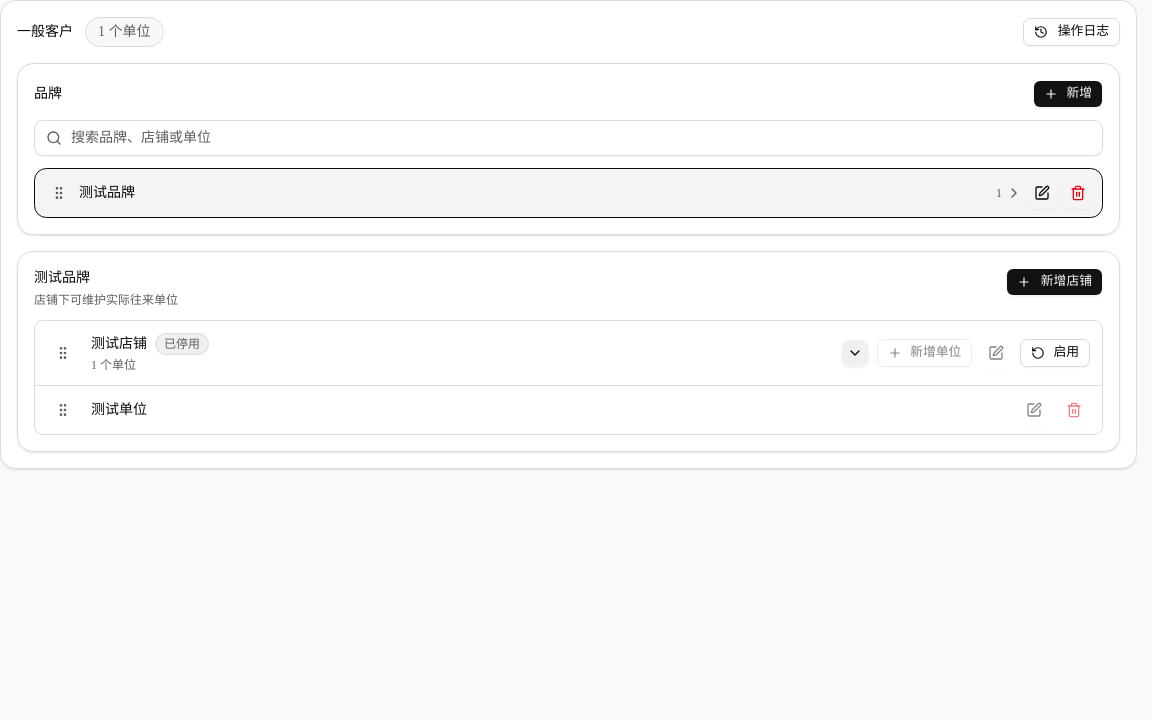
Test: allows a disabled shop to be enabled again
What coordinates should you click on to do the following:
click the button with aria-label "启用店铺 测试店铺"
I would click on:
 (1055, 353)
Its box is top-left (1020, 339), bottom-right (1090, 367).
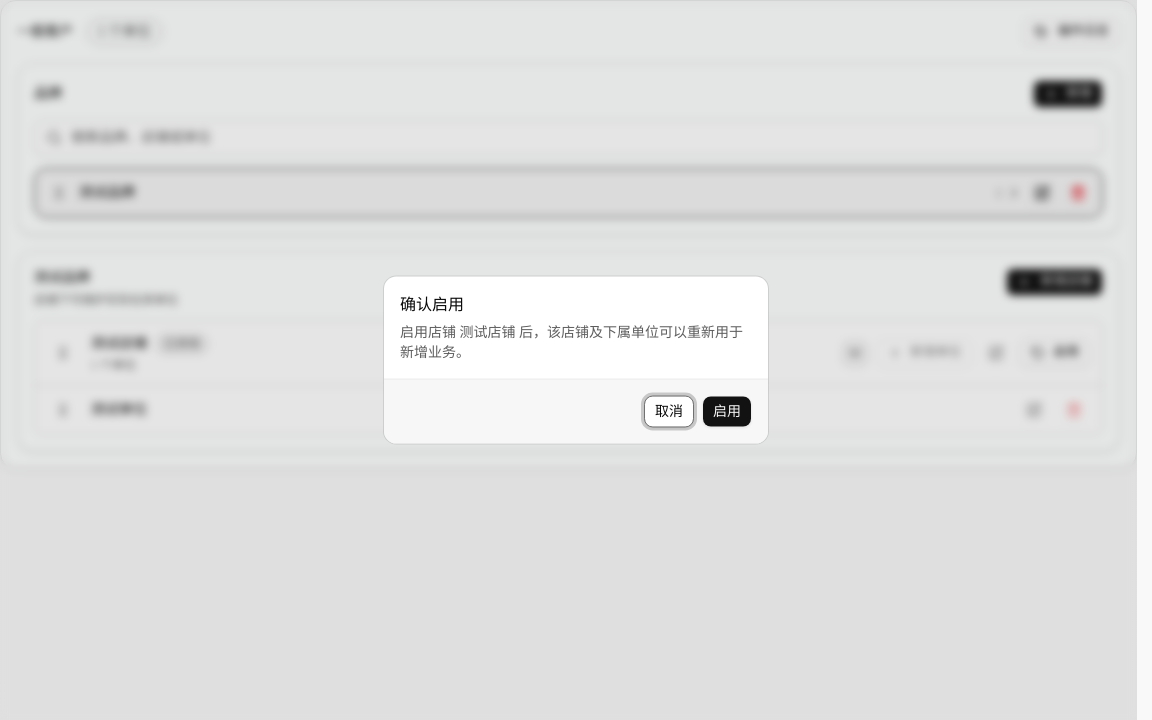
What coordinates should you click on to do the following:
click the button "启用"
I would click on:
 (727, 412)
Its box is top-left (702, 396), bottom-right (752, 428).
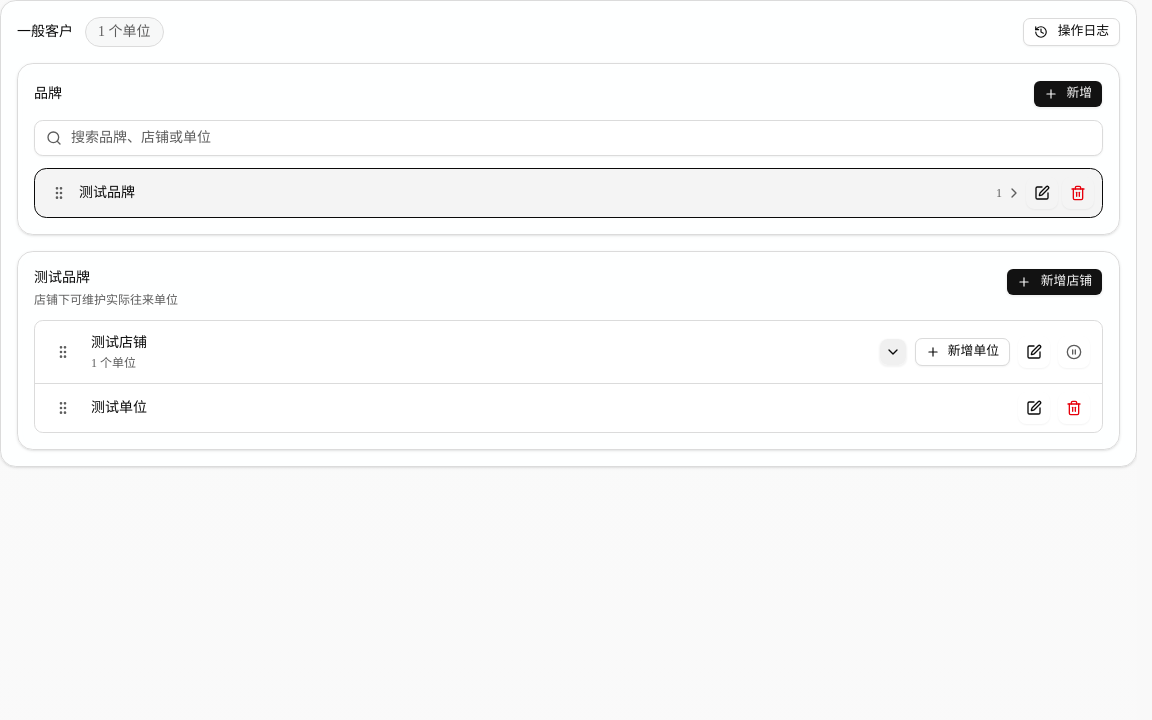
Result: the text "已停用" is gone
Result: the button "新增单位" is enabled at top-left (915, 338), bottom-right (1010, 366)
